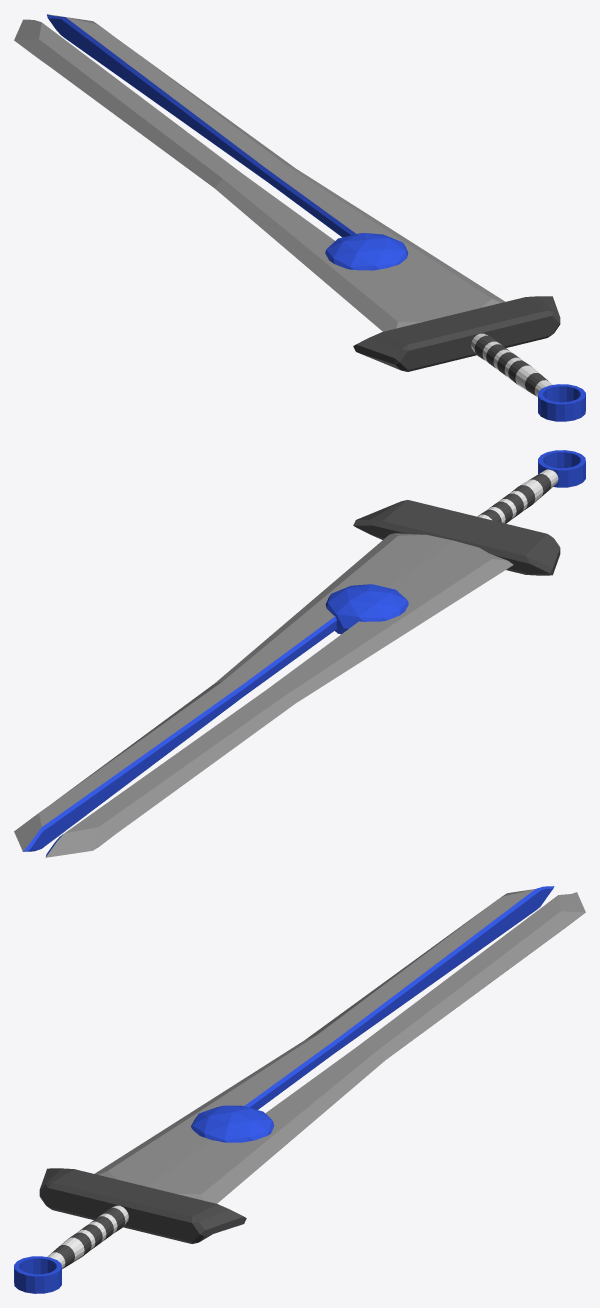
3 renders of one model, top to bottom at view 1: azimuth 30°, elevation 25°; view 2: azimuth 150°, elevation 25°; view 3: azimuth 330°, elevation 25°, orthographic.
Parts seen in each view (by area): view 1: 80; view 2: 80; view 3: 80.
Part boxes in pixels (x1,y1,x2,y2): 80: [14, 14, 585, 421]; 80: [14, 450, 585, 857]; 80: [14, 886, 585, 1293].
Size of the model in its own units: 15.99 by 3.2 by 75.9.
